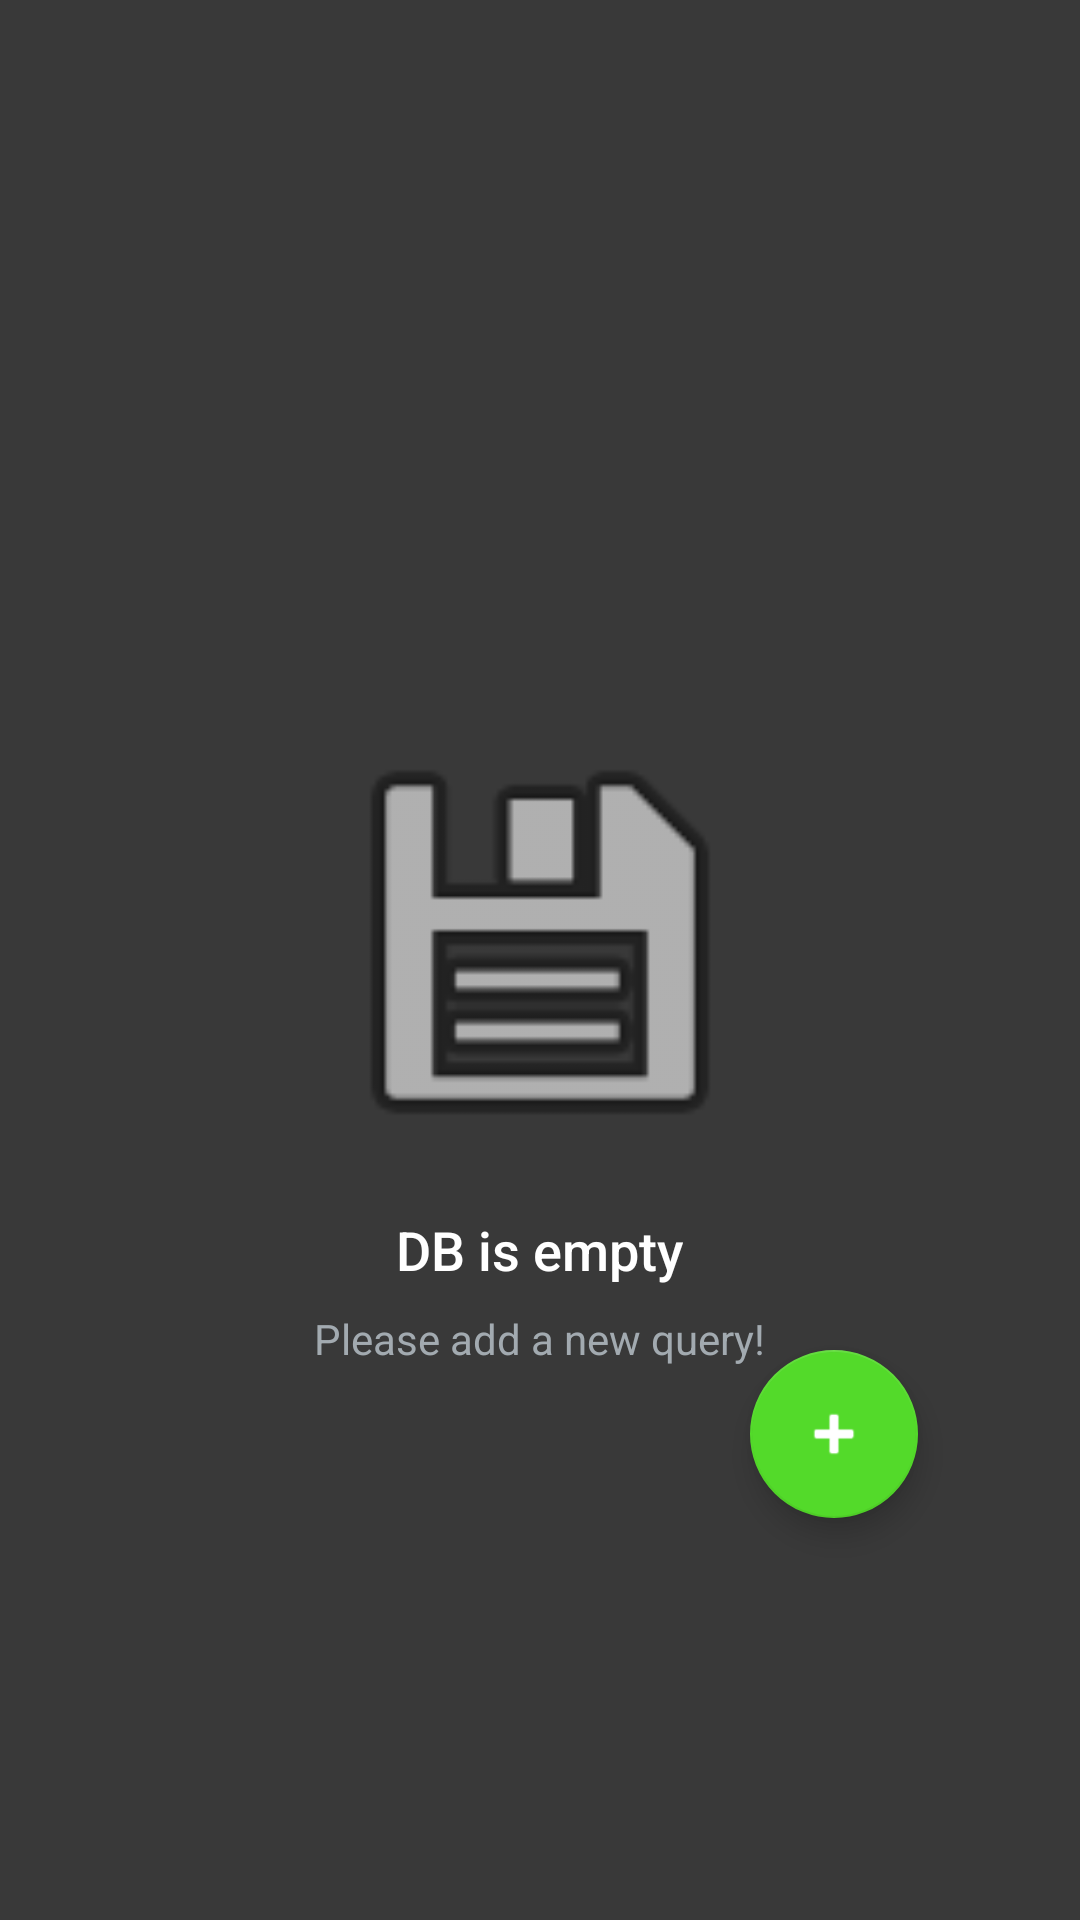

Screen size 1080w x 1920h. Icon name, then its center in pixels as (x,y):
Empty database image: (540,942)
